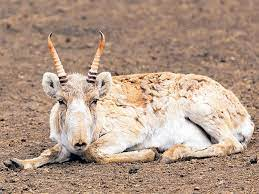saiga: (2, 30, 256, 168)
